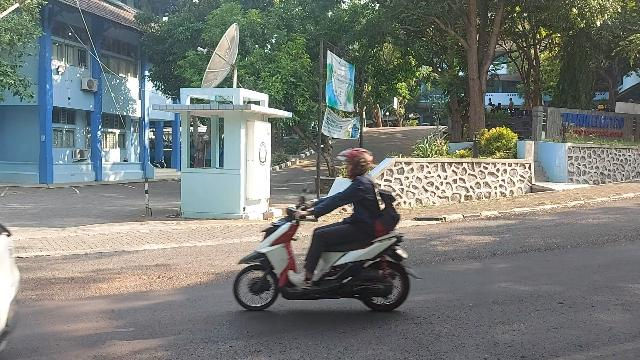helm: (338, 149, 374, 177)
motor: (234, 187, 422, 314)
